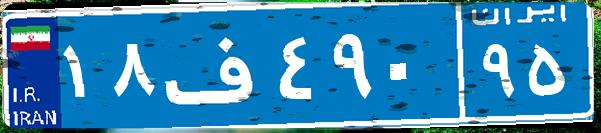0: (385, 28, 445, 110)
1: (57, 26, 110, 107)
4: (273, 28, 330, 110)
5: (525, 38, 570, 115)
8: (110, 28, 158, 105)
9: (330, 28, 385, 110), (475, 38, 525, 113)
ف: (158, 15, 273, 115)
